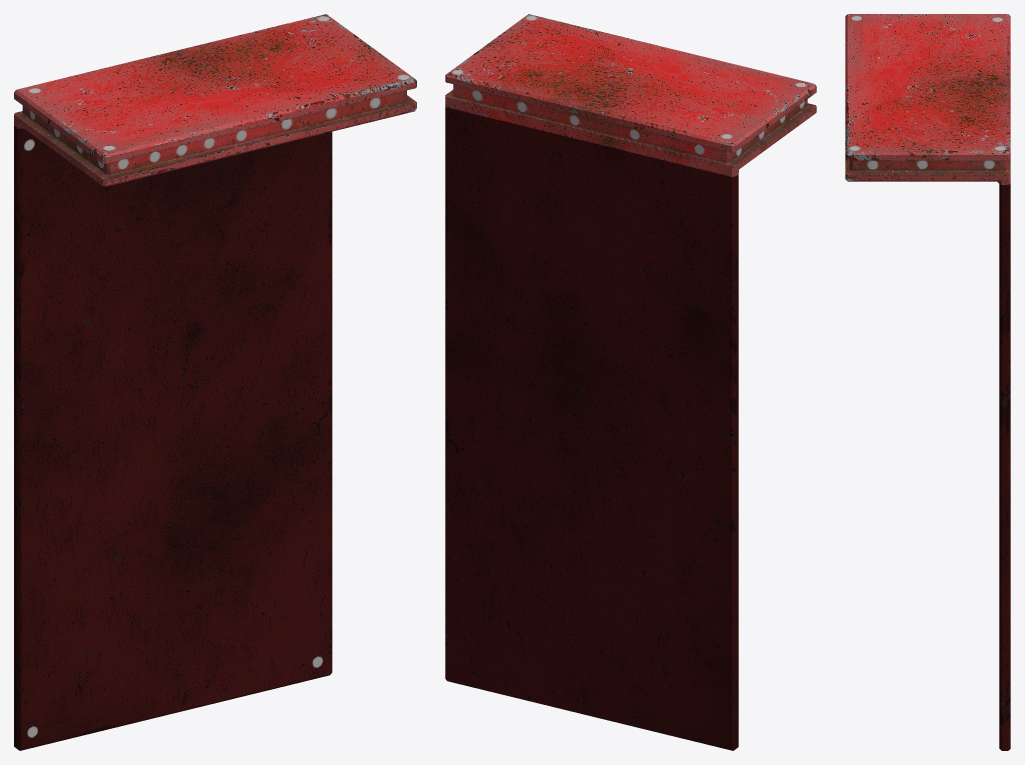
File: RedPlatformWithBG.fbx
3 renders of one model, left to right at view 1: azimuth 30°, elevation 25°; view 2: azimuth 150°, elevation 25°; view 3: azimuth 270°, elevation 25°, orthographic. The views are drawn at different scales.
Visible parts, largest first — view 1: Cube.006; view 2: Cube.006; view 3: Cube.006.
Boxes of the visible parts, box(x1,y1,x2,y2) form: Cube.006: box(14, 14, 416, 750); Cube.006: box(445, 14, 816, 750); Cube.006: box(845, 14, 1010, 750).
Bounding box in the file's own units: 400 × 800 × 200.
